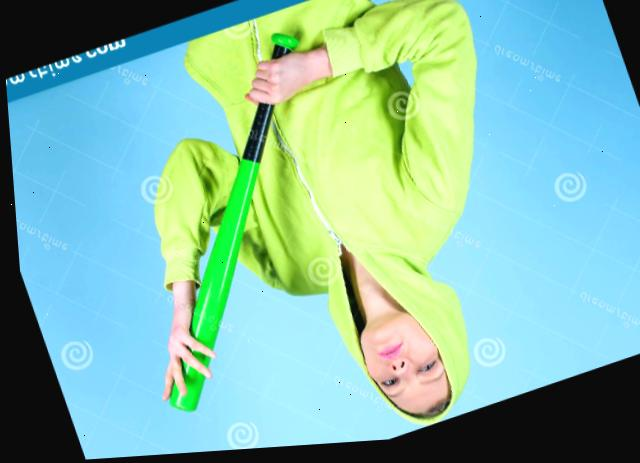baseball bat: (56, 25, 399, 423)
